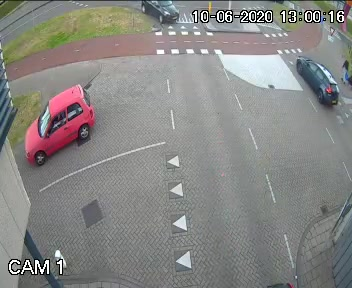car: (10, 80, 100, 168), (289, 52, 343, 108), (146, 0, 181, 29)
